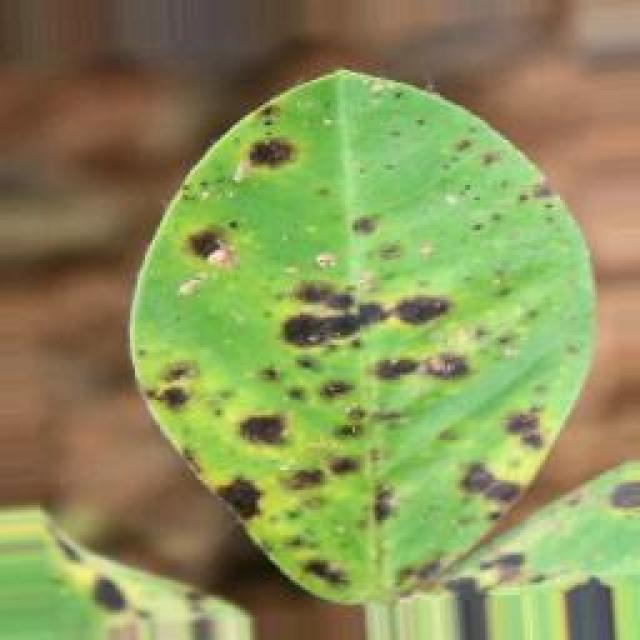Yellowish: (93, 75, 575, 586)
